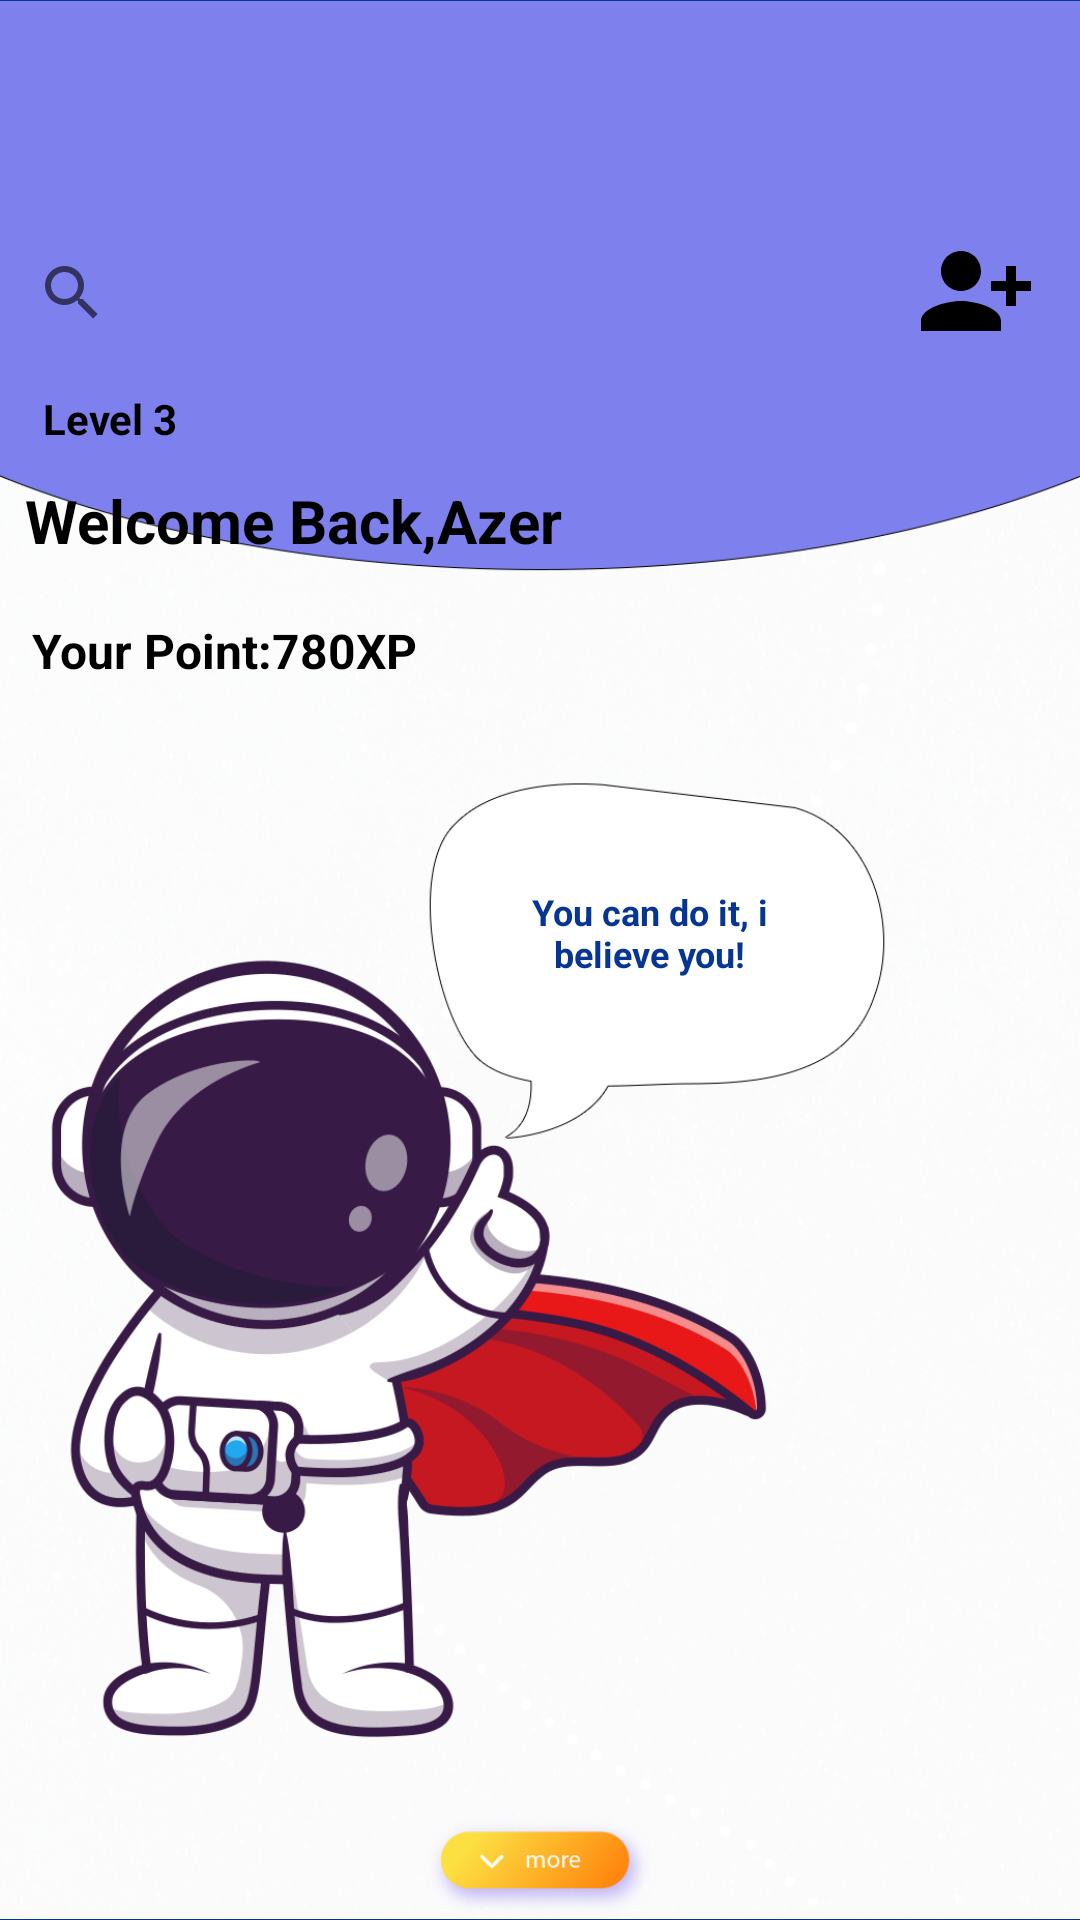

Where to tap for icons on this 1080w x 1920h app screen, as (x,y):
add friend: (976,291)
